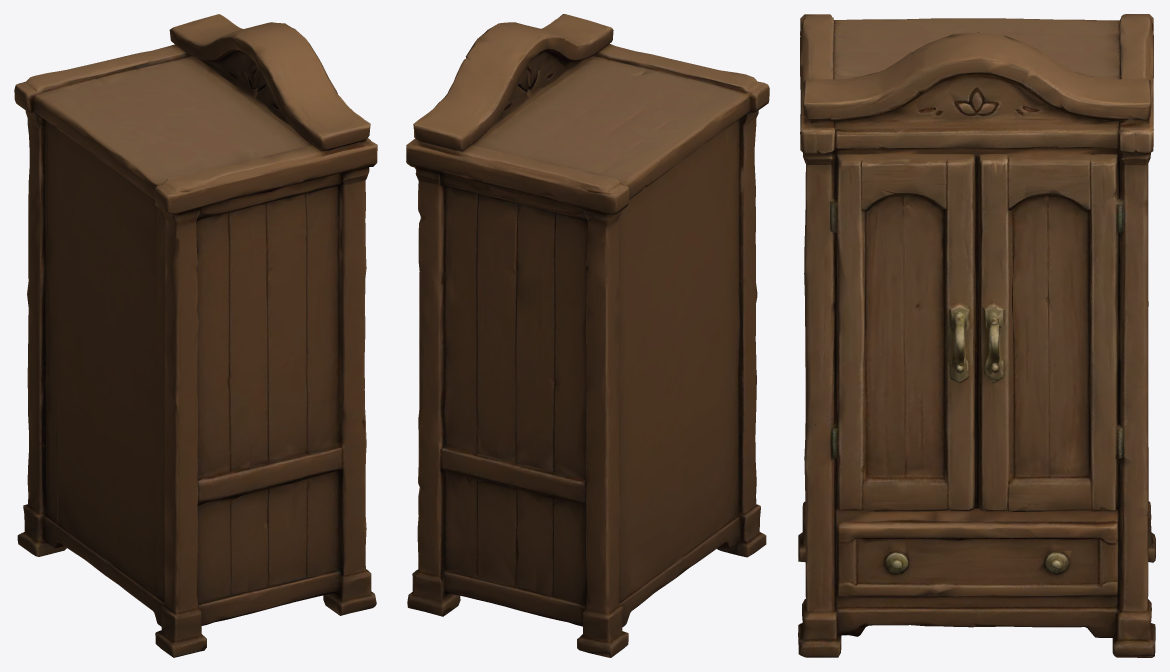
Rendered from ropero.glb.
3 renders of one model, left to right at view 1: azimuth 30°, elevation 25°; view 2: azimuth 150°, elevation 25°; view 3: azimuth 270°, elevation 25°, orthographic. The views are drawn at different scales.
Parts seen in each view (by area): view 1: tripo_node_8e3ea417-a80e-4f6b-8268-1de70f2f3c32; view 2: tripo_node_8e3ea417-a80e-4f6b-8268-1de70f2f3c32; view 3: tripo_node_8e3ea417-a80e-4f6b-8268-1de70f2f3c32.
Part boxes in pixels (<box>): tripo_node_8e3ea417-a80e-4f6b-8268-1de70f2f3c32: <box>14,14,377,657</box>; tripo_node_8e3ea417-a80e-4f6b-8268-1de70f2f3c32: <box>406,14,769,657</box>; tripo_node_8e3ea417-a80e-4f6b-8268-1de70f2f3c32: <box>798,14,1155,657</box>.
Size of the model in its own units: 0.4542 by 1 by 0.5406.
Materials: 1 (1 with a texture image).
